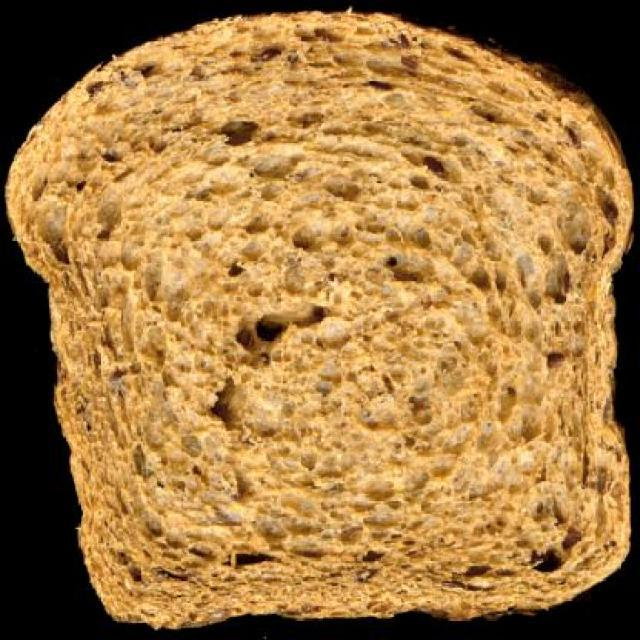Bread: (10, 18, 630, 626)
